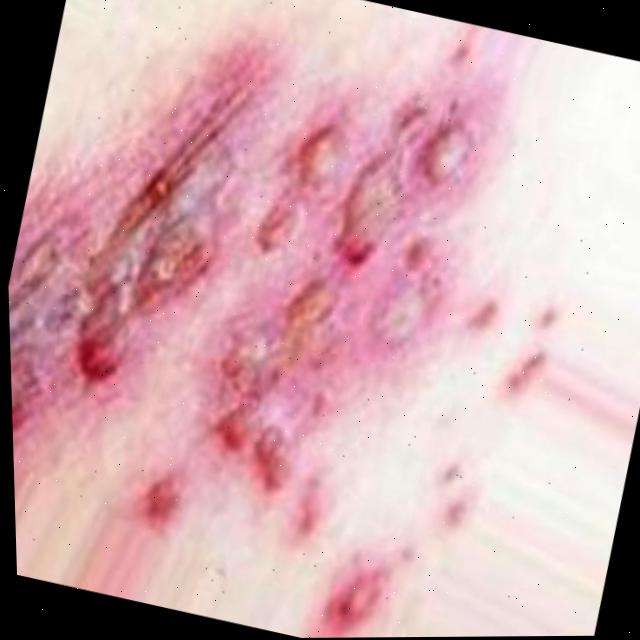Shingles: (0, 7, 507, 576)
